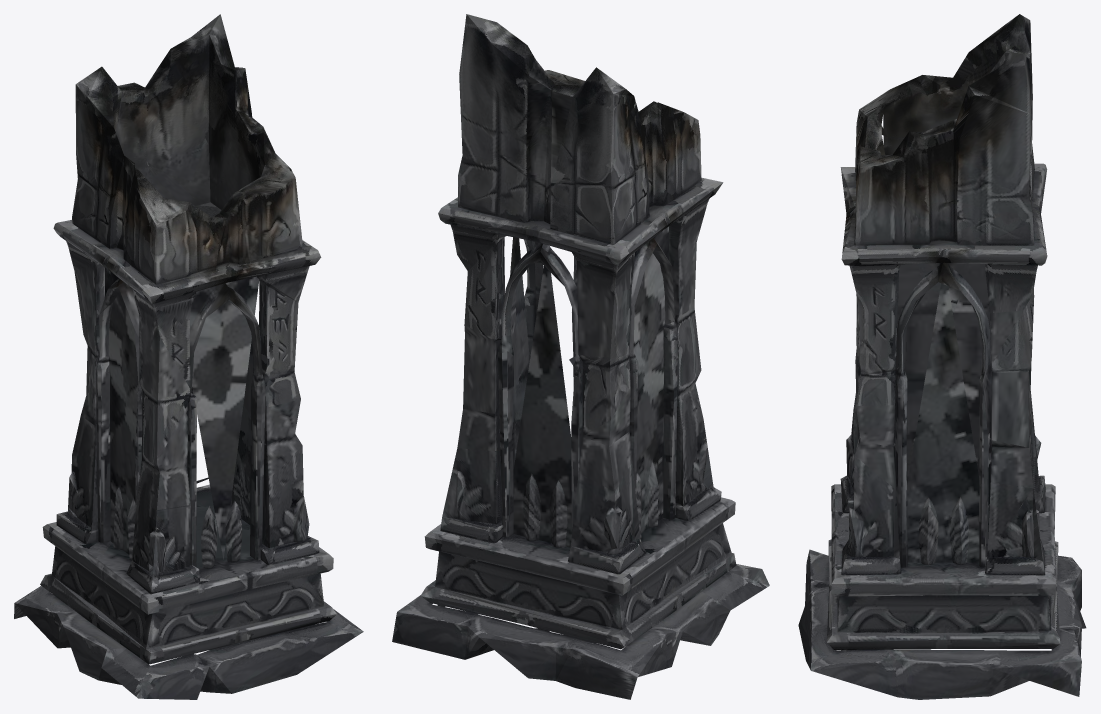
Rendered from broken_pillar.glb.
3 views of the same model, side by side, from view 1: azimuth 30°, elevation 25°; view 2: azimuth 150°, elevation 25°; view 3: azimuth 270°, elevation 25° (orthographic). The views are drawn at different scales.
Parts seen in each view (by area): view 1: Mesh; view 2: Mesh; view 3: Mesh.
Part boxes in pixels (bbox=[...]): Mesh: bbox=[14, 14, 363, 699]; Mesh: bbox=[392, 14, 769, 699]; Mesh: bbox=[798, 14, 1086, 699].
Size of the model in its own units: 0.4254 by 1.01 by 0.4228.
Materials: 1 (1 with a texture image).
